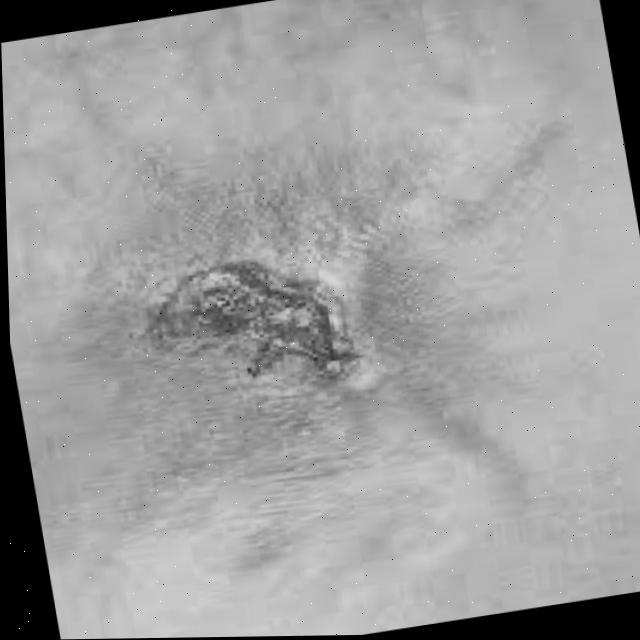Eczema: (108, 195, 415, 458)
